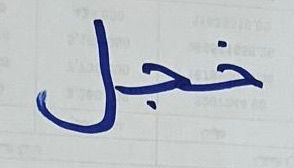jeem: (118, 46, 194, 115)
khah: (197, 31, 268, 101)
lam: (27, 13, 117, 139)
